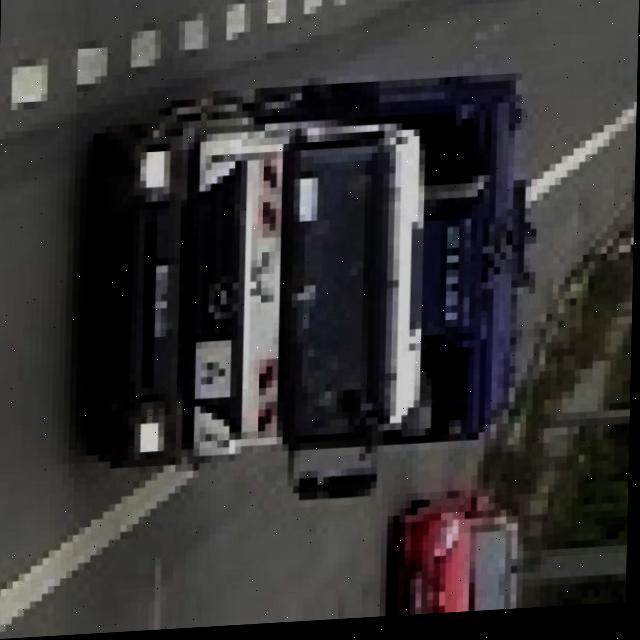truck: (87, 57, 546, 507)
